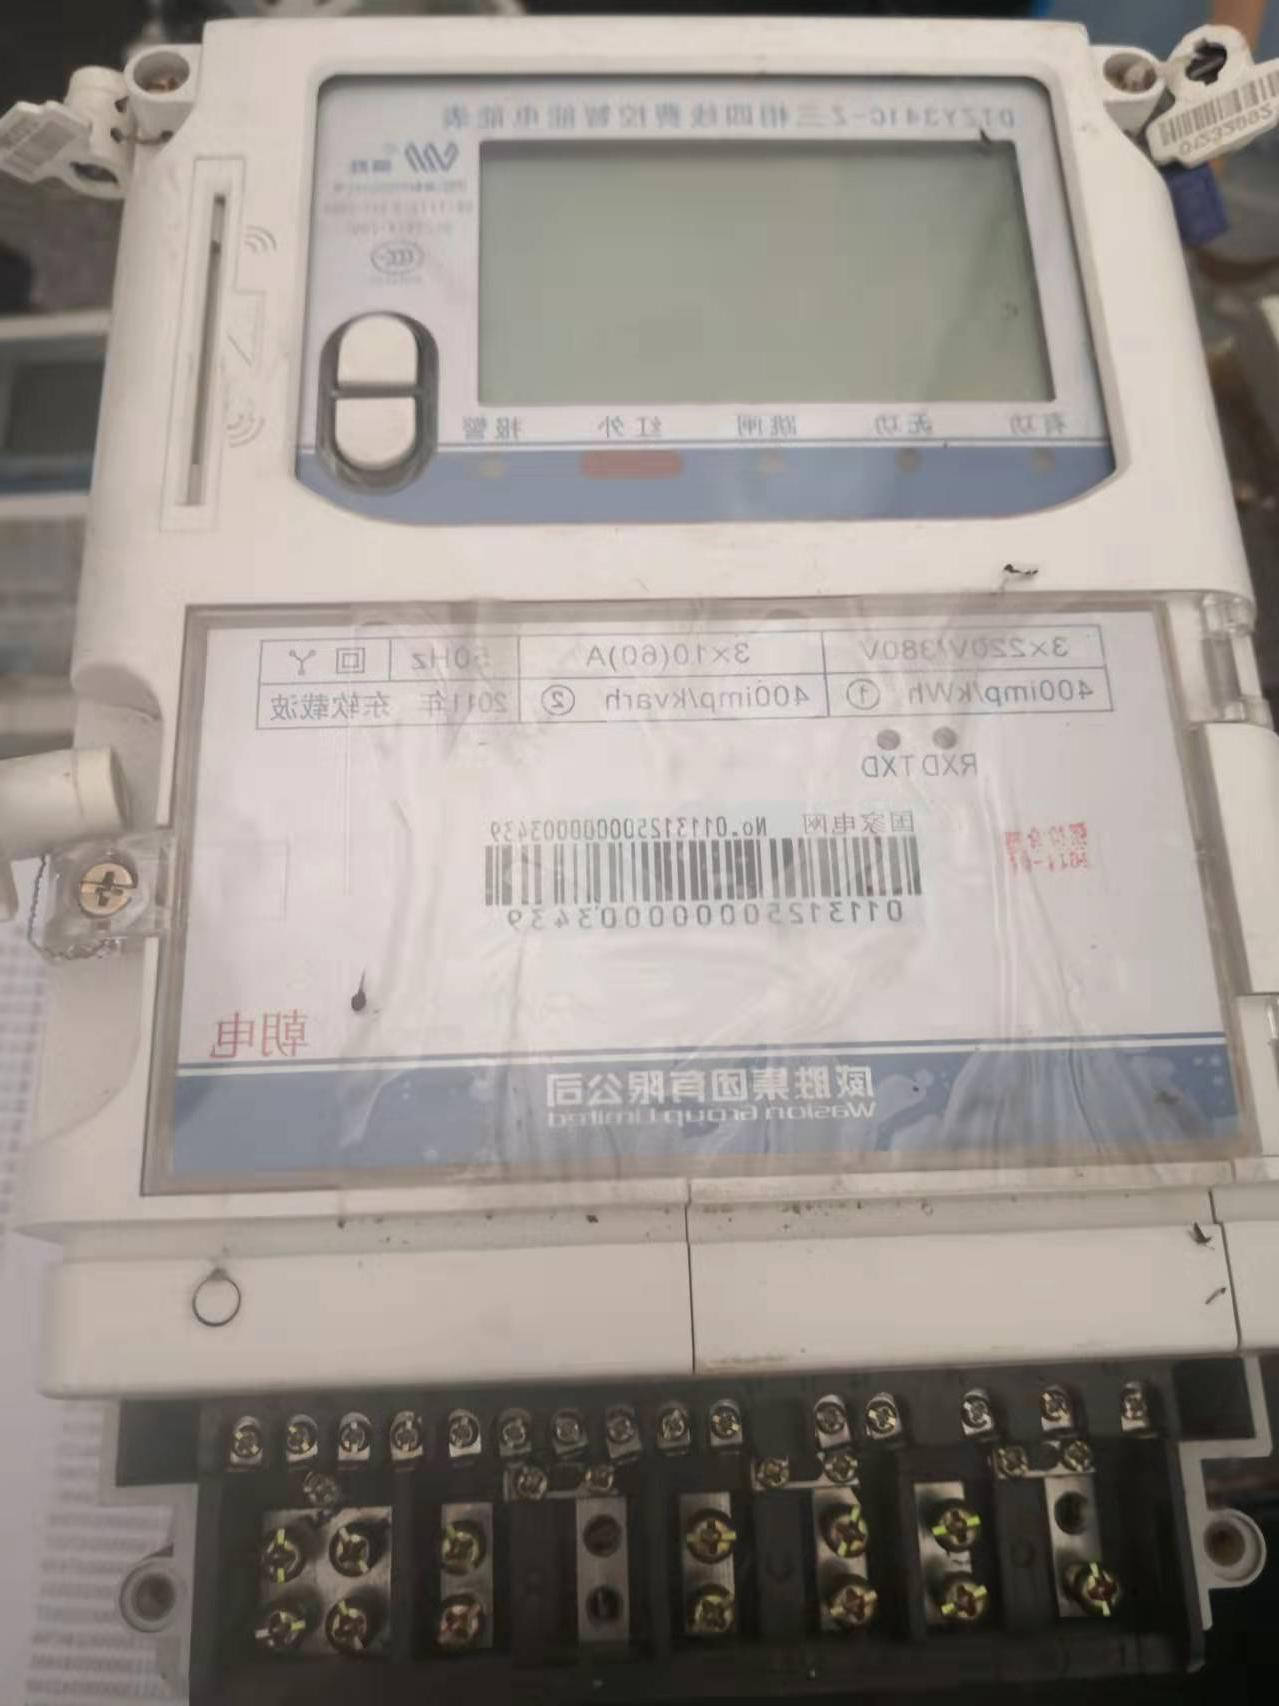digital: (15, 16, 1279, 1225)
